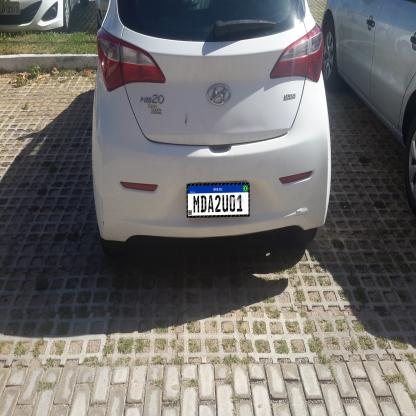PlacaM: (186, 182, 250, 218)
